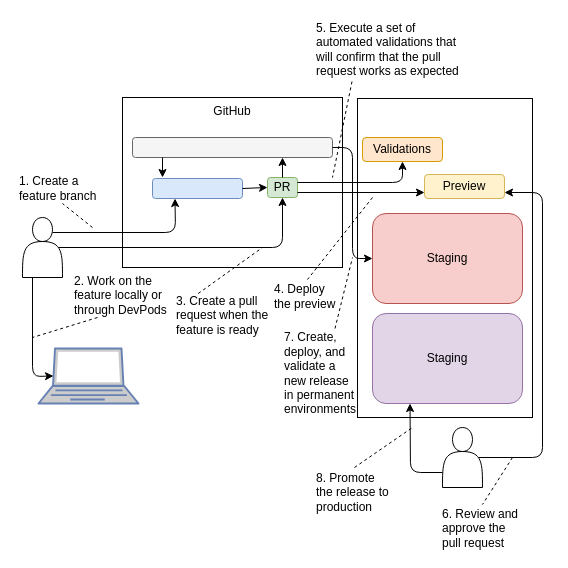
The diagram is 568 pixels wide and 568 high, and some of its shapes have lost their labels. Here are the shapes that lost their labels. From the top down, the box of each, then its label:
(132, 136, 332, 158): master
(152, 178, 242, 198): Feature branch
(356, 98, 532, 418): Cluster
